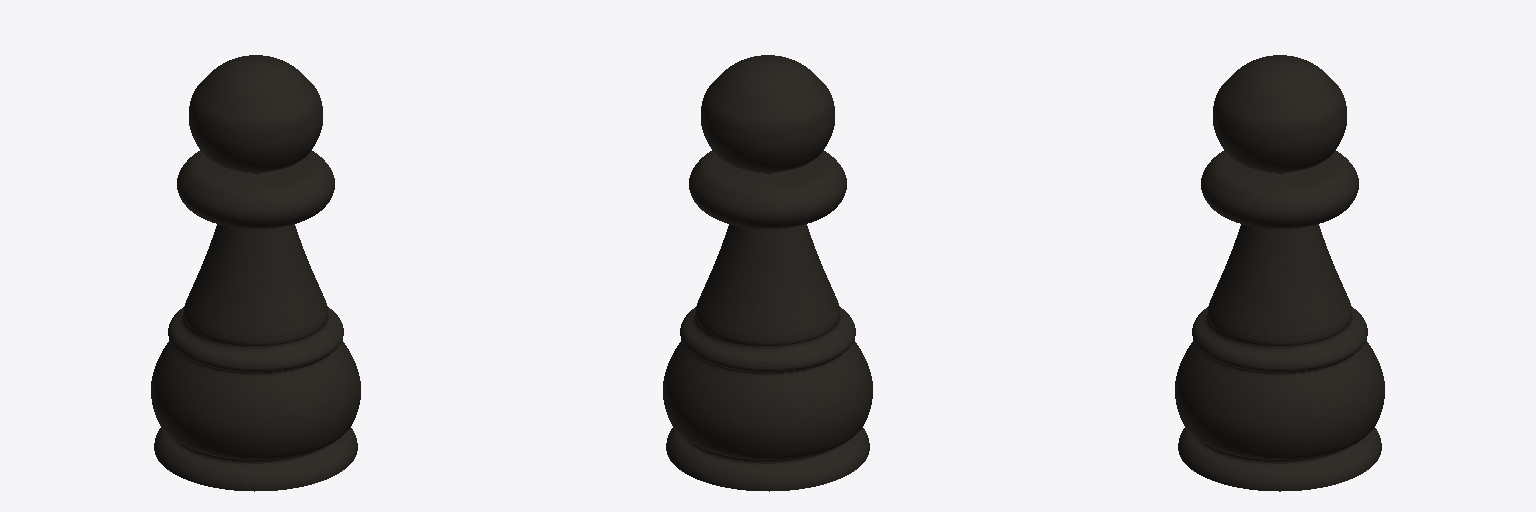
The model's file is pawn.obj.
The picture shows the model from 3 angles: view 1: azimuth 30°, elevation 25°; view 2: azimuth 150°, elevation 25°; view 3: azimuth 270°, elevation 25°; orthographic projection.
Visible parts, largest first — view 1: Cylindre; view 2: Cylindre; view 3: Cylindre.
Part boxes in pixels (bbox=[...]): Cylindre: bbox=[151, 55, 360, 491]; Cylindre: bbox=[663, 55, 872, 491]; Cylindre: bbox=[1175, 55, 1384, 491].
Bounding box in the file's own units: 1.97 × 4 × 1.97.